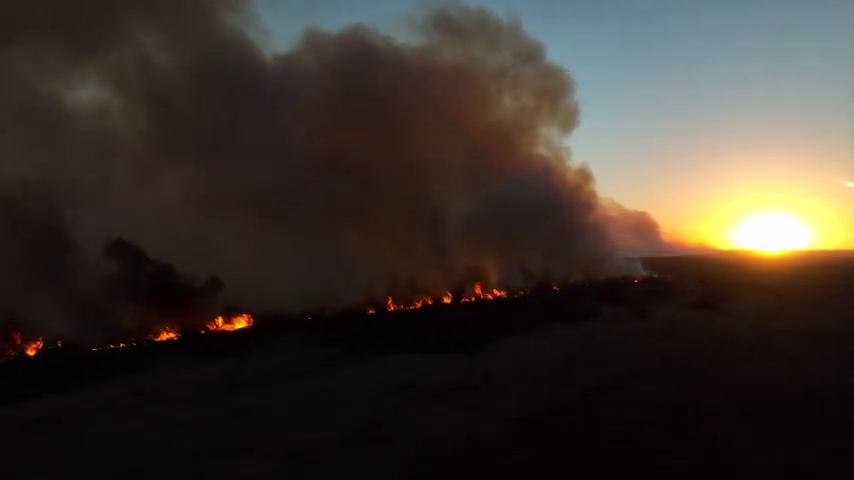forest_fire: (384, 282, 525, 309), (199, 313, 254, 332), (12, 332, 44, 356), (148, 327, 181, 341), (92, 342, 133, 349)
